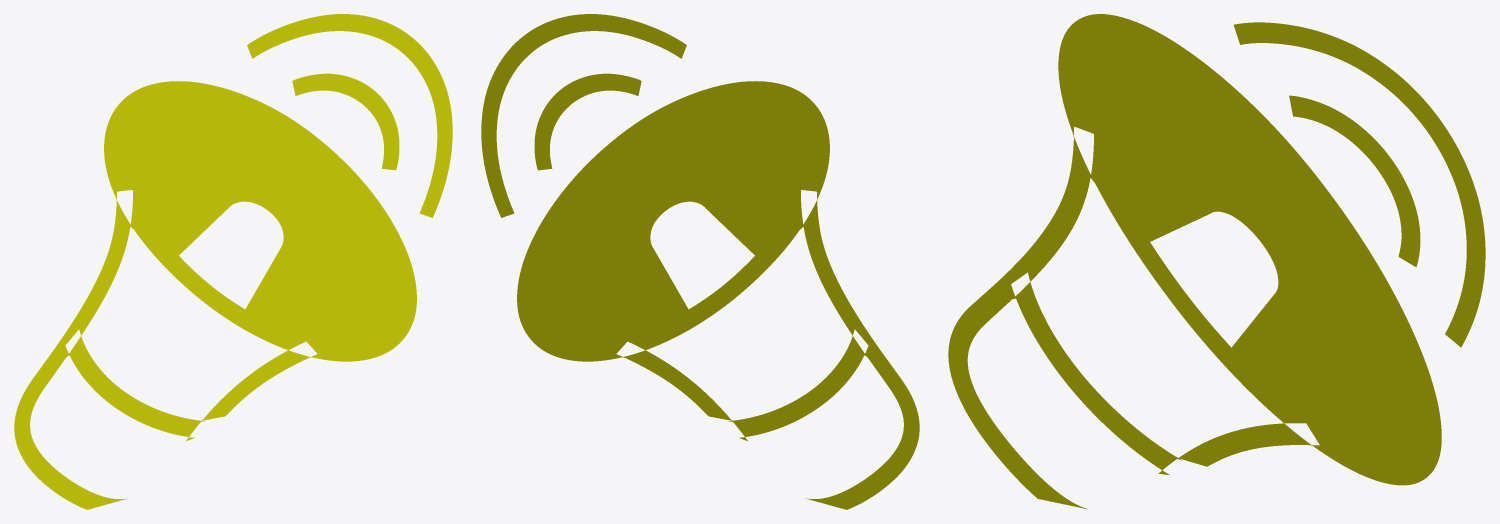
Rendered from speaker_with_sound_waves.glb.
The picture shows the model from 3 angles, left to right: view 1: azimuth 30°, elevation 25°; view 2: azimuth 150°, elevation 25°; view 3: azimuth 330°, elevation 25°; orthographic projection. The views are drawn at different scales.
Visible parts, largest first — view 1: Text.833_833; view 2: Text.833_833; view 3: Text.833_833.
Boxes of the visible parts, x1,y1,x2,y2 form: Text.833_833: (14,14,452,509); Text.833_833: (481,14,919,509); Text.833_833: (948,14,1485,509).
Bounding box in the file's own units: 1.06 × 1.01 × 3.56e-06.
